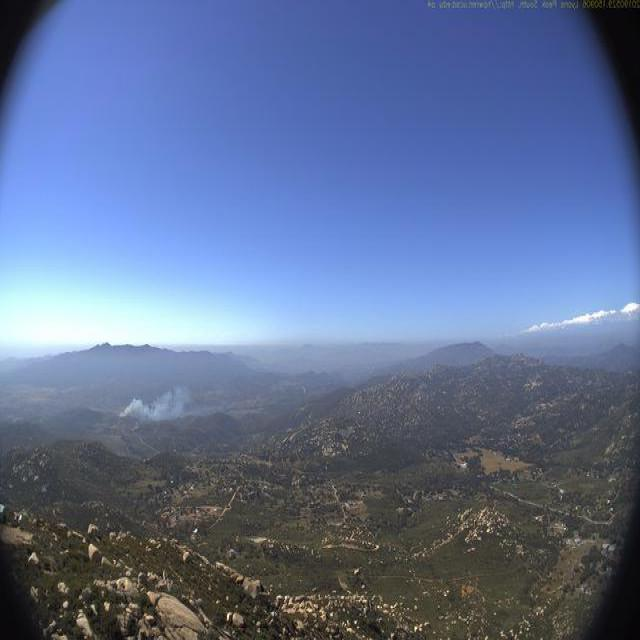Smoke: (120, 377, 198, 423)
